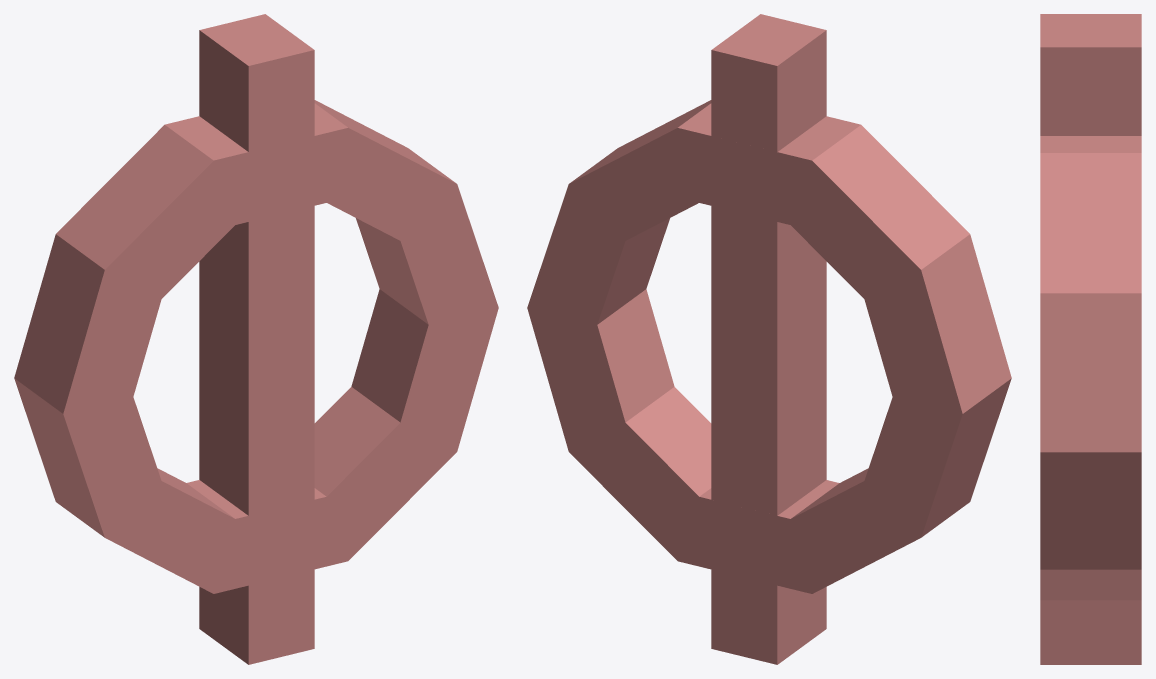
Rendered from Fi sign.fbx.
The picture shows the model from 3 angles, left to right: view 1: azimuth 30°, elevation 25°; view 2: azimuth 150°, elevation 25°; view 3: azimuth 270°, elevation 25°; orthographic projection. The views are drawn at different scales.
Visible parts, largest first — view 1: pCylinder4; view 2: pCylinder4; view 3: pCylinder4.
Boxes of the visible parts, x1=… form: pCylinder4: x1=14, y1=14, x2=498, y2=664; pCylinder4: x1=527, y1=14, x2=1011, y2=664; pCylinder4: x1=1040, y1=14, x2=1141, y2=664.
Bounding box in the file's own units: 4.25 × 5.59 × 0.8315.
